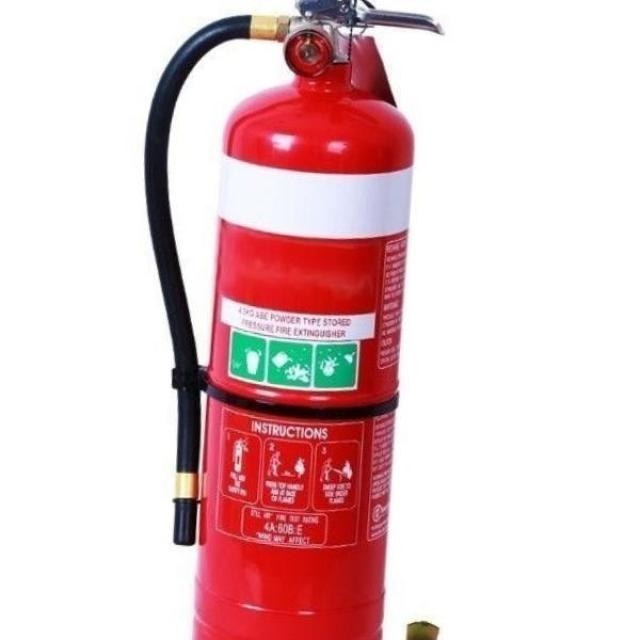fire_extinguisher: (133, 0, 447, 639)
